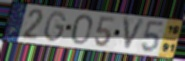2: (22, 7, 45, 41)
5: (140, 20, 166, 54), (93, 14, 117, 49)
G: (42, 10, 68, 44)
O: (70, 13, 93, 46)
V: (121, 16, 147, 53)
